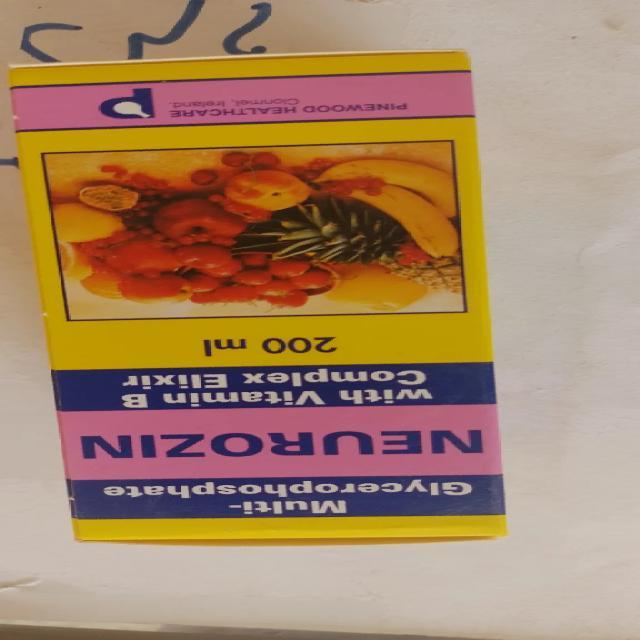drug-name: (79, 423, 487, 465)
